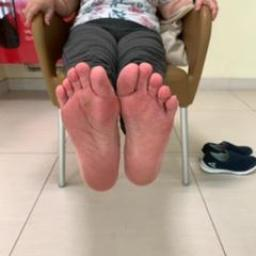Plantar View -Both Feet-: (32, 54, 195, 200)
